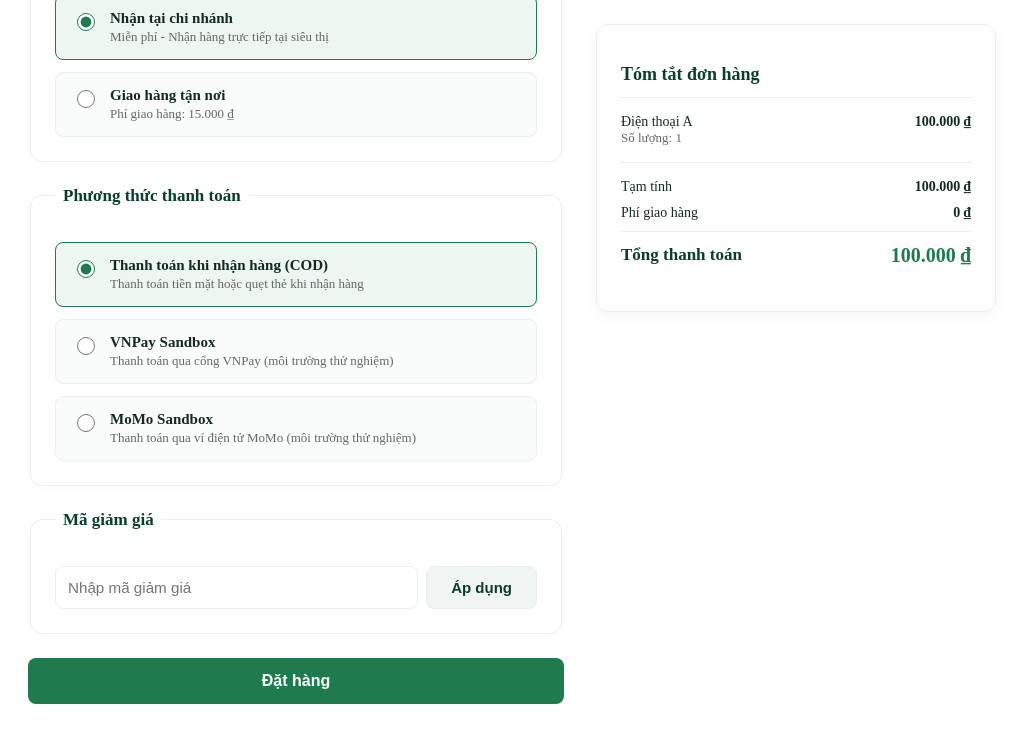
Scenario: CheckoutPage › shows the backend message when a coupon is invalid
(page scrolled)
Type "BIG" into the field with placeholder "Nhập mã giảm giá" at (237, 587), box 55,566 -> 418,609
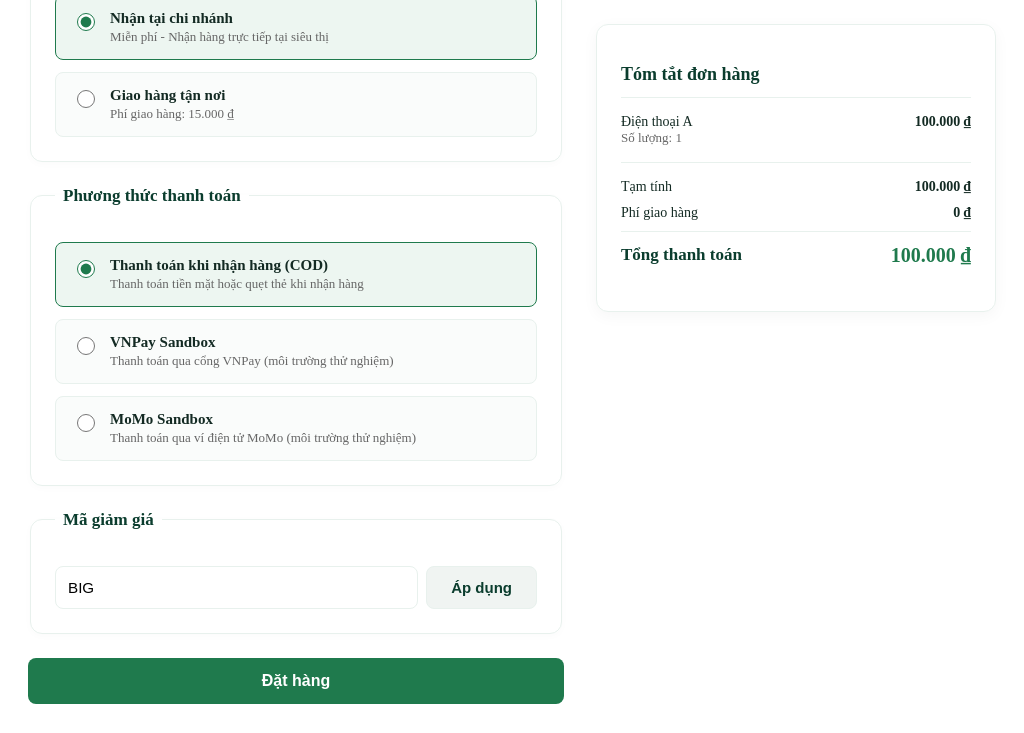
Click the button "Áp dụng" at (482, 587), box 426,566 -> 537,609
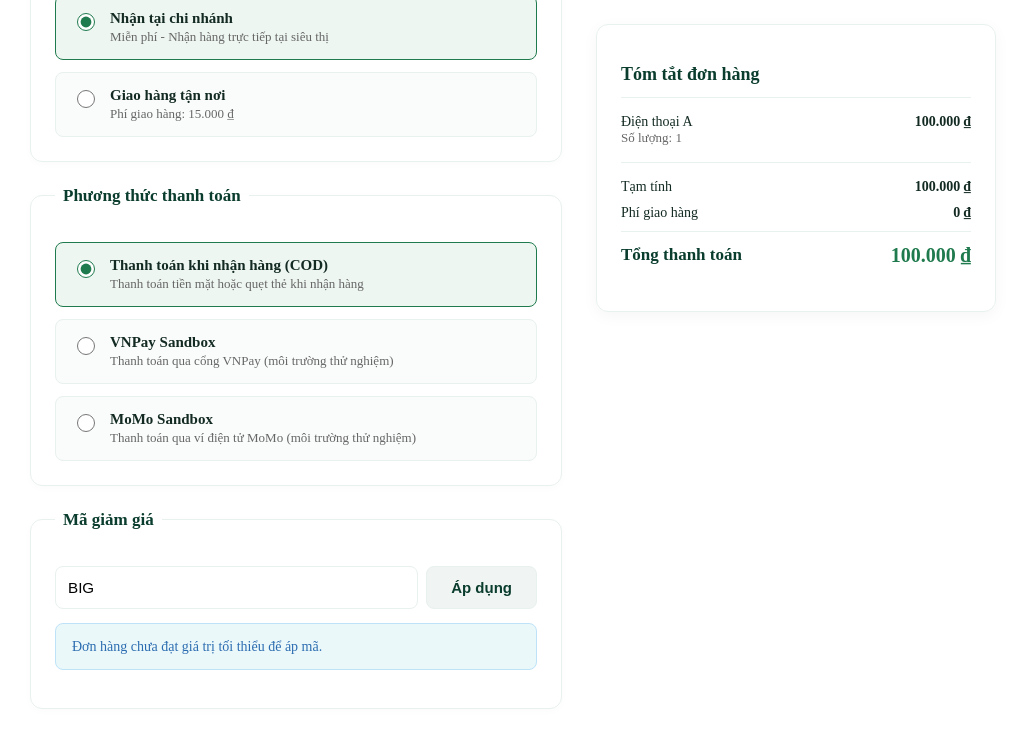
Check: the text "Đơn hàng chưa đạt giá trị tối thiểu để áp mã." is shown, box 55,623 -> 537,670
